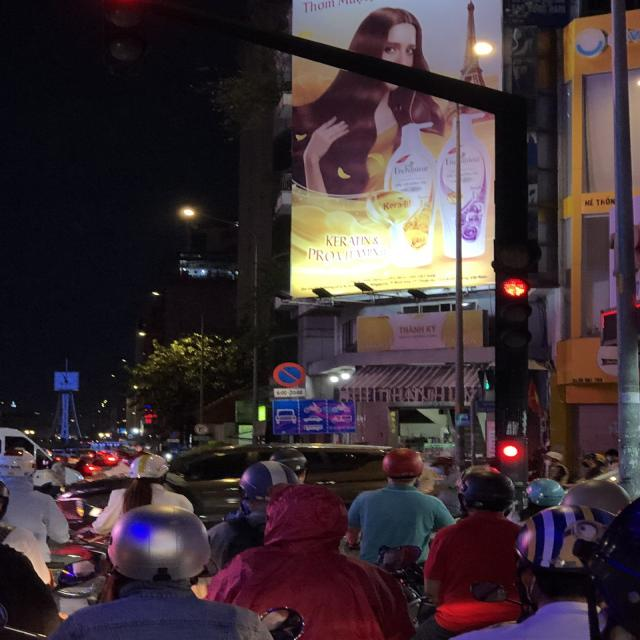Bien bao cam do xe: (273, 357, 309, 389)
